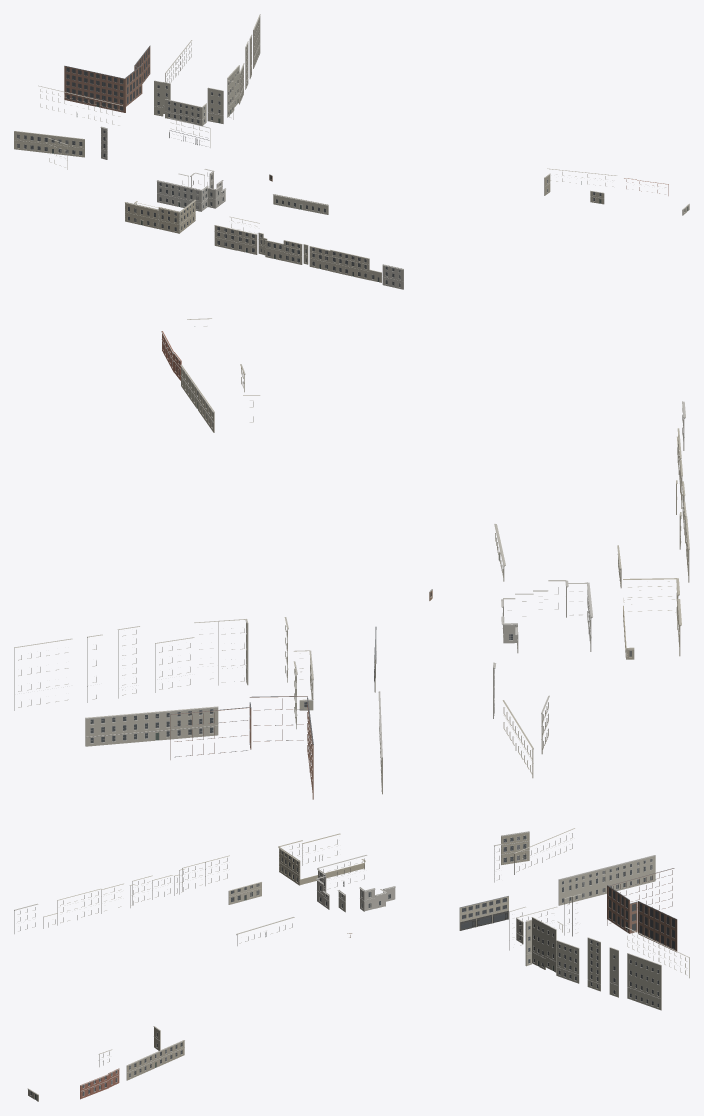
3 renders of one model, top to bottom at view 1: azimuth 30°, elevation 25°; view 2: azimuth 150°, elevation 25°; view 3: azimuth 270°, elevation 25°, orthographic. The views are drawn at different scales.
Visible parts, largest first — view 1: f:way/13221601, f:way/970372393, f:way/135789461, f:way/13221455, f:way/13221412, f:way/227825138, f:way/479033673, f:way/134800795, f:way/137151155; view 2: f:way/970372393, f:way/135789461, f:way/13221455, f:way/137151155, f:way/13221601; view 3: f:way/970372393, f:way/135789461, f:way/191546285, f:way/13221601, f:way/13221455, f:way/191546290, f:way/137151155, f:way/13221412, f:way/28364981, f:way/137151175.
Part boxes in pixels (x1,y1,x2,y2): f:way/13221601: [214, 216, 381, 282]; f:way/970372393: [154, 14, 260, 125]; f:way/135789461: [64, 45, 150, 112]; f:way/13221455: [157, 169, 225, 211]; f:way/13221412: [124, 199, 196, 233]; f:way/227825138: [14, 131, 84, 157]; f:way/479033673: [273, 194, 328, 214]; f:way/134800795: [382, 264, 403, 289]; f:way/137151155: [544, 168, 616, 204]; f:way/970372393: [14, 617, 313, 746]; f:way/135789461: [170, 696, 313, 799]; f:way/13221455: [501, 580, 592, 653]; f:way/137151155: [180, 364, 260, 432]; f:way/13221601: [617, 428, 689, 588]; f:way/970372393: [509, 893, 689, 1010]; f:way/135789461: [607, 868, 677, 952]; f:way/191546285: [558, 855, 655, 905]; f:way/13221601: [43, 855, 261, 928]; f:way/13221455: [316, 855, 395, 912]; f:way/191546290: [459, 896, 508, 930]; f:way/137151155: [98, 1026, 184, 1080]; f:way/13221412: [278, 833, 365, 885]; f:way/28364981: [501, 831, 529, 864]; f:way/137151175: [80, 1068, 119, 1099].
Bounding box in the file's own units: 224 × 21.49 × 254.
